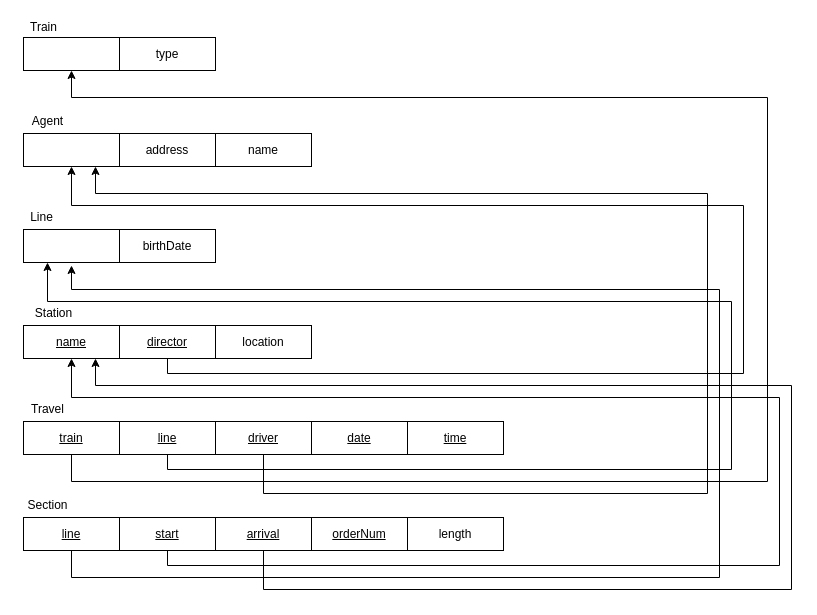
Some shapes in this 817 by 615 pixel diagram are drawn without their labels. Each missing label, with the centre of its shape:
"code" goes at pixel 71 245.
"empno" goes at pixel 71 149.
"num" goes at pixel 71 53.
